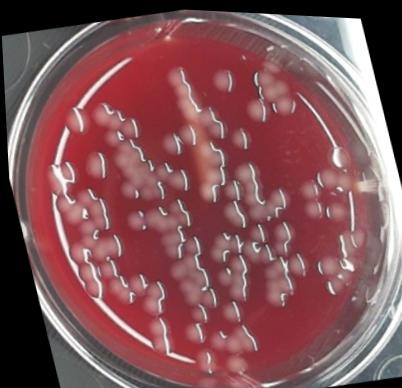vharveyi: (105, 136, 162, 207), (157, 228, 211, 300), (186, 135, 234, 202), (86, 94, 143, 148), (141, 196, 188, 261), (162, 57, 204, 120), (251, 60, 298, 115), (254, 252, 296, 307), (211, 250, 254, 303), (242, 180, 293, 222), (77, 182, 114, 231), (132, 273, 170, 316), (151, 154, 191, 194), (202, 224, 244, 262), (55, 100, 94, 140), (71, 257, 104, 302), (142, 312, 175, 356), (218, 317, 256, 354), (232, 155, 263, 200), (195, 100, 229, 141), (51, 189, 86, 227), (265, 214, 298, 253), (86, 227, 124, 260), (102, 270, 136, 306), (78, 146, 110, 183), (218, 196, 250, 228), (208, 61, 239, 93), (241, 91, 272, 122), (156, 126, 186, 155), (166, 192, 192, 225), (294, 169, 323, 198), (178, 316, 206, 345), (217, 293, 245, 322), (282, 248, 310, 277), (62, 236, 92, 263), (227, 120, 254, 150), (124, 267, 151, 296), (93, 253, 120, 280), (312, 247, 339, 274), (121, 205, 147, 233), (175, 118, 202, 144), (192, 343, 218, 370), (218, 173, 244, 200), (322, 194, 348, 221), (182, 298, 208, 324), (201, 326, 226, 351), (320, 269, 345, 293), (300, 193, 323, 216), (196, 283, 218, 307)
